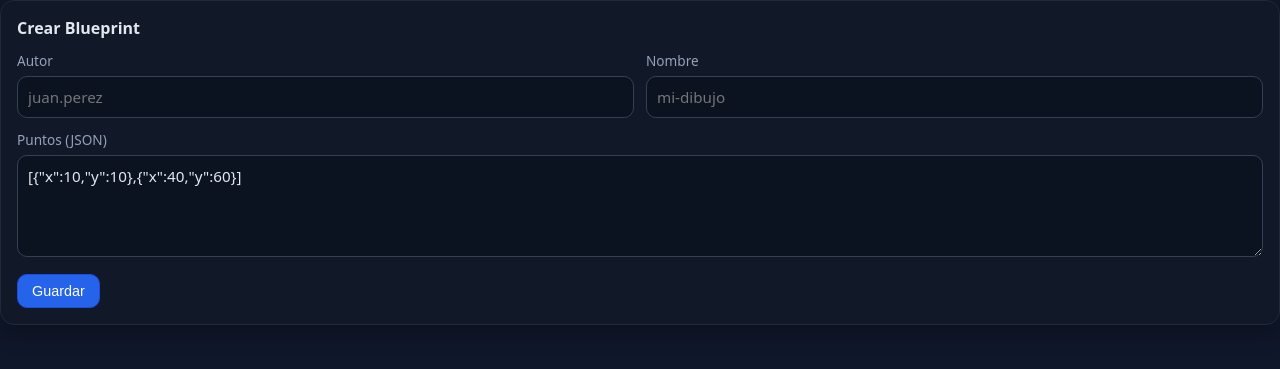
Scenario: BlueprintForm › no envia si faltan el autor o el nombre
Click the button "Guardar": (58, 291) left=17, top=274, right=100, bottom=308
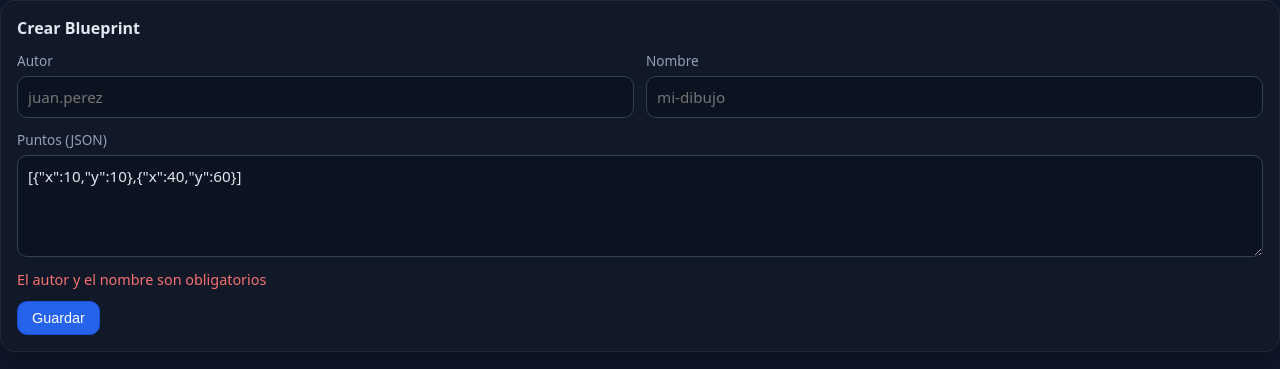
Result: the message shows "obligatorios" at left=17, top=270, right=266, bottom=289
